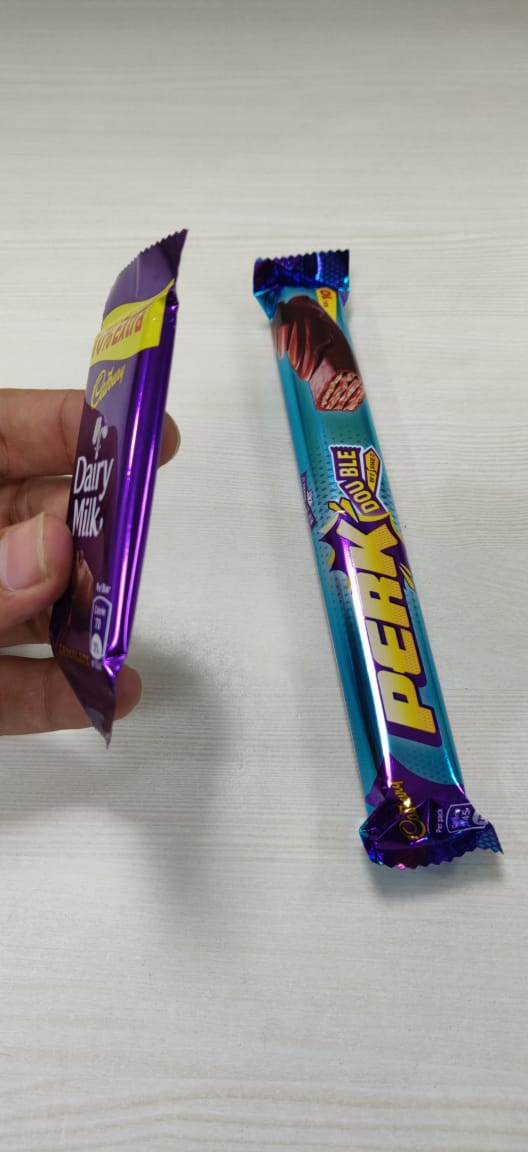dairy milk: (38, 211, 219, 739)
perk: (243, 230, 515, 891)
